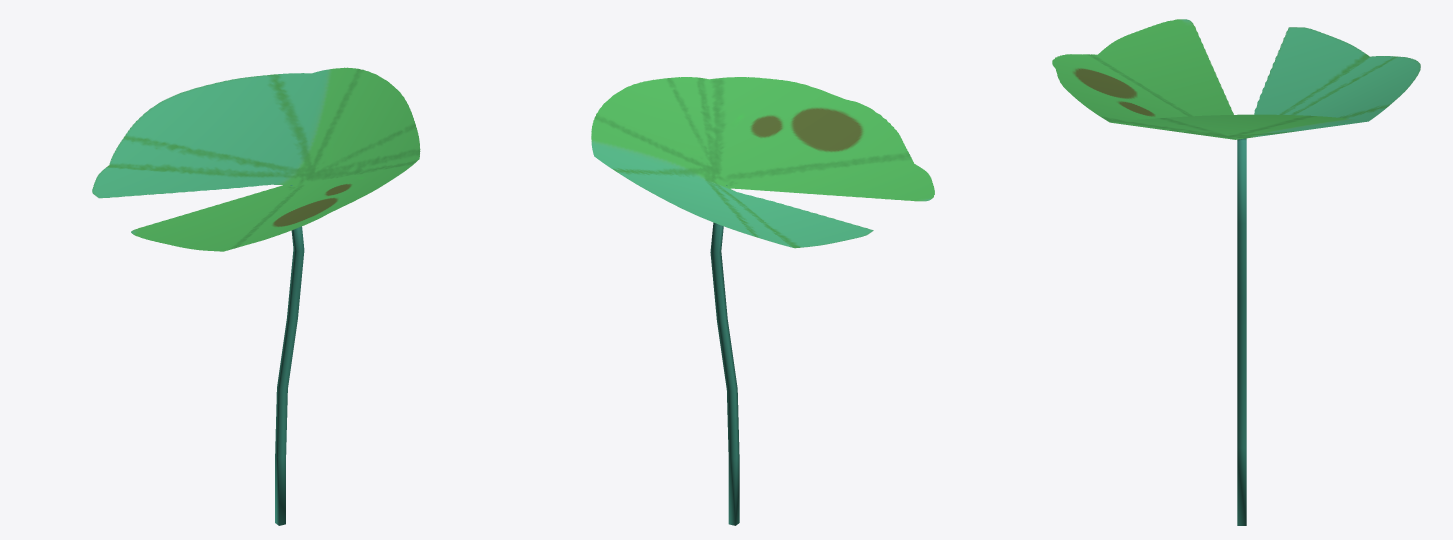
File: SM_NenuphareSolo1.fbx
3 views of the same model, side by side, from view 1: azimuth 30°, elevation 25°; view 2: azimuth 150°, elevation 25°; view 3: azimuth 270°, elevation 25° (orthographic). The views are drawn at different scales.
Parts seen in each view (by area): view 1: SM_NenuphareSolo1; view 2: SM_NenuphareSolo1; view 3: SM_NenuphareSolo1.
Part boxes in pixels (x1,y1,x2,y2): SM_NenuphareSolo1: (92, 67, 420, 525); SM_NenuphareSolo1: (591, 77, 934, 525); SM_NenuphareSolo1: (1052, 19, 1420, 525).
Bounding box in the file's own units: 86.95 × 113 × 85.93.
